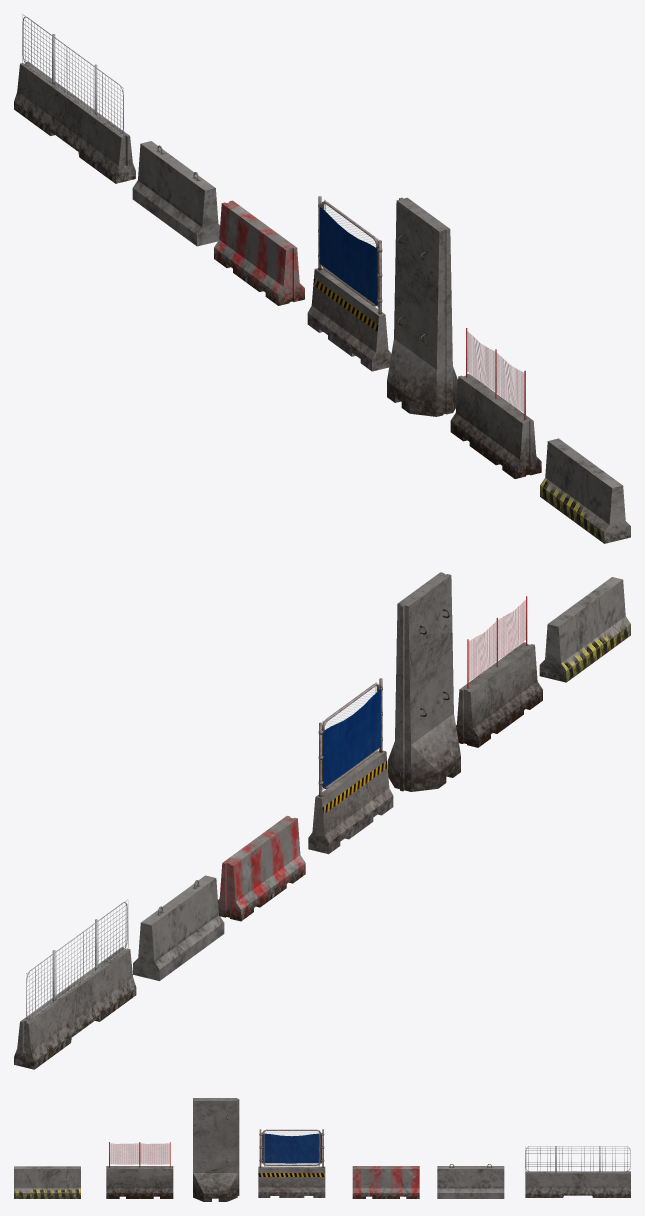
Rendered from barriers.glb.
The picture shows the model from 3 angles, top to bottom: view 1: azimuth 30°, elevation 25°; view 2: azimuth 150°, elevation 25°; view 3: azimuth 270°, elevation 25°; orthographic projection. The views are drawn at different scales.
Visible parts, largest first — view 1: Cube.007, Cube.006, Cube.002, Cube.003, Cube.005, Cube.001, Cube.008, Plane.006, Plane, Cylinder.004, Cylinder.003; view 2: Cube.007, Cube.006, Cube.002, Cube.001, Cube.003, Cube.005, Cube.008, Plane.006, Plane, Cylinder.004, Cylinder.003; view 3: Cube.007, Cube.006, Cube.001, Cube.003, Cube.005, Cube.002, Cube.008, Plane.006, Plane, Cylinder.003, Cylinder.004, Plane.002 (+3 smaller).
Boxes of the visible parts, bbox=[...] form: Cube.007: bbox=[387, 197, 457, 416]; Cube.006: bbox=[14, 61, 135, 183]; Cube.002: bbox=[540, 438, 630, 543]; Cube.003: bbox=[214, 200, 304, 305]; Cube.005: bbox=[450, 373, 541, 478]; Cube.001: bbox=[132, 141, 220, 246]; Cube.008: bbox=[307, 268, 391, 371]; Plane.006: bbox=[319, 206, 377, 305]; Plane: bbox=[467, 331, 523, 412]; Cylinder.004: bbox=[22, 15, 123, 135]; Cylinder.003: bbox=[22, 14, 123, 135]; Cube.007: bbox=[388, 572, 460, 791]; Cube.006: bbox=[14, 947, 136, 1069]; Cube.002: bbox=[539, 577, 630, 682]; Cube.001: bbox=[133, 875, 224, 980]; Cube.003: bbox=[218, 816, 305, 921]; Cube.005: bbox=[456, 642, 542, 747]; Cube.008: bbox=[308, 750, 393, 854]; Plane.006: bbox=[323, 689, 381, 787]; Plane: bbox=[469, 600, 525, 680]; Cylinder.004: bbox=[26, 900, 128, 1021]; Cylinder.003: bbox=[26, 899, 127, 1021]; Cube.007: bbox=[193, 1098, 239, 1201]; Cube.006: bbox=[525, 1171, 630, 1197]; Cube.001: bbox=[437, 1166, 504, 1198]; Cube.003: bbox=[352, 1166, 419, 1198]; Cube.005: bbox=[106, 1166, 173, 1198]; Cube.002: bbox=[14, 1166, 80, 1198]; Cube.008: bbox=[258, 1166, 325, 1197]; Plane.006: bbox=[261, 1133, 321, 1163]; Plane: bbox=[110, 1143, 169, 1164]; Cylinder.003: bbox=[526, 1148, 630, 1166]; Cylinder.004: bbox=[525, 1146, 627, 1170]; Plane.002: bbox=[262, 1129, 321, 1165].
Bounding box in the file's own units: 0.5 × 1.75 × 10.19.
7 materials, 7 textured.
